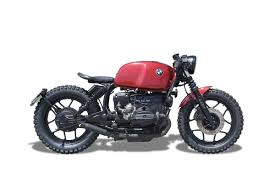motorcycle: (30, 53, 245, 152)
